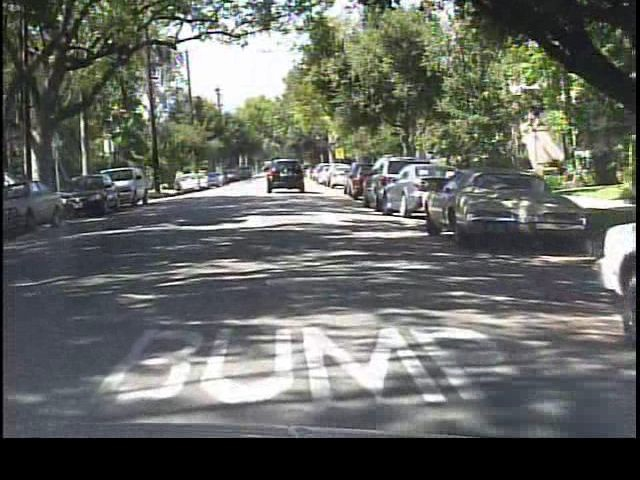person: (173, 168, 187, 196)
